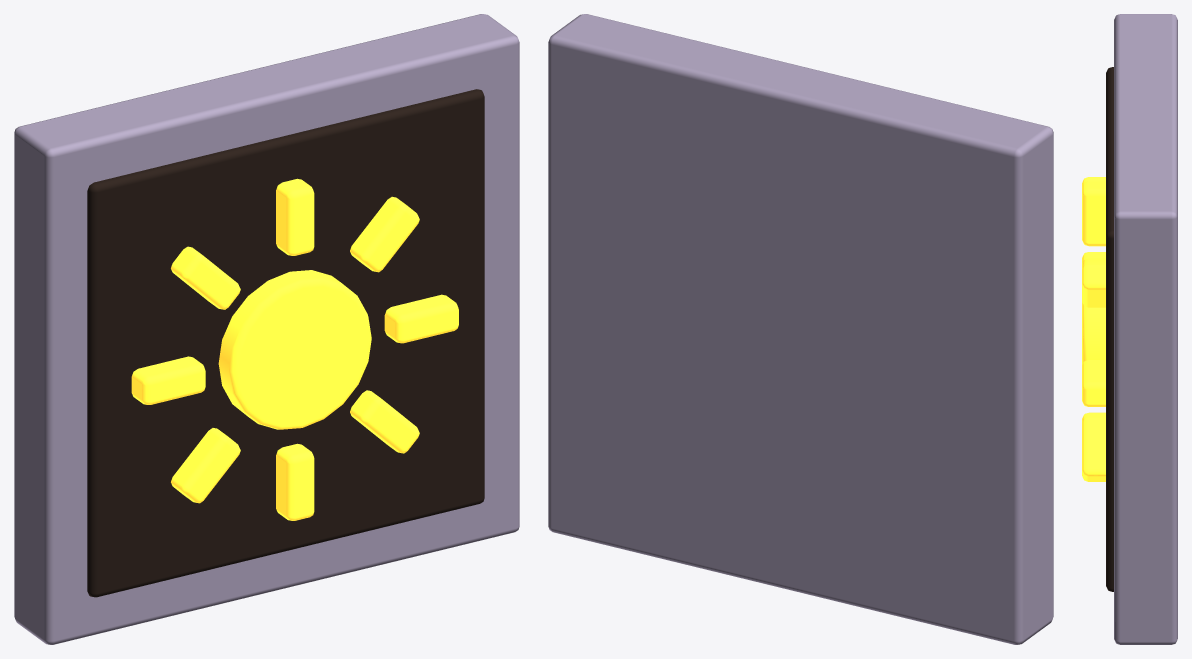
Rendered from simbolo_sol.glb.
3 renders of one model, left to right at view 1: azimuth 30°, elevation 25°; view 2: azimuth 150°, elevation 25°; view 3: azimuth 270°, elevation 25°, orthographic. The views are drawn at different scales.
Parts seen in each view (by area): view 1: Placa; view 2: Placa; view 3: Placa.
Boxes of the visible parts, bbox=[...] form: Placa: bbox=[14, 14, 519, 644]; Placa: bbox=[548, 14, 1053, 644]; Placa: bbox=[1082, 14, 1177, 644].
Bounding box in the file's own units: 0.6 × 0.6 × 0.12.
